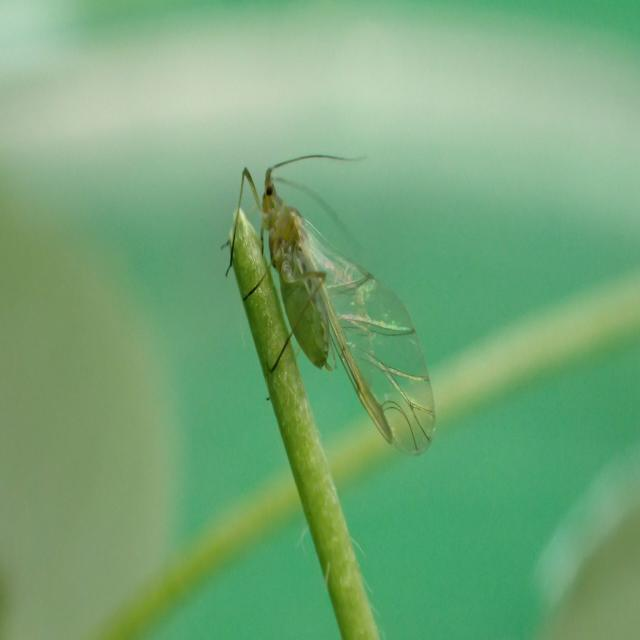Aphid-Grown-have wings-: (228, 139, 444, 475)
